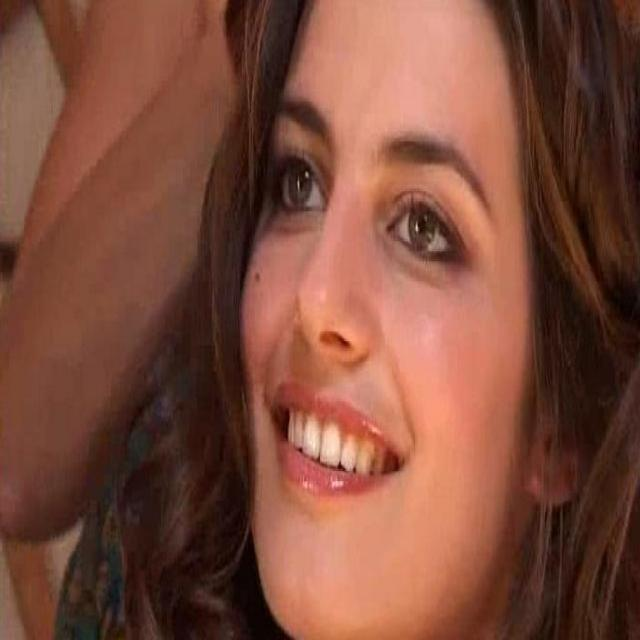nomask: (239, 9, 535, 627)
